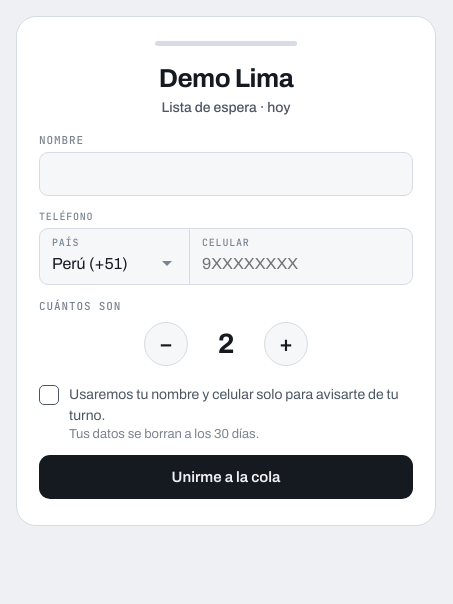
it: JoinPage: errores al enviar › 429 con Retry-After 90s dice "en 2 minutos"
The width and height of the screenshot is (453, 604).
Expected: the heading "Demo Lima" is shown, [159,64,293,92]
Type "Ana Torres" into the field labelled "Nombre". click: (226, 174)
box: [39,152,413,196]
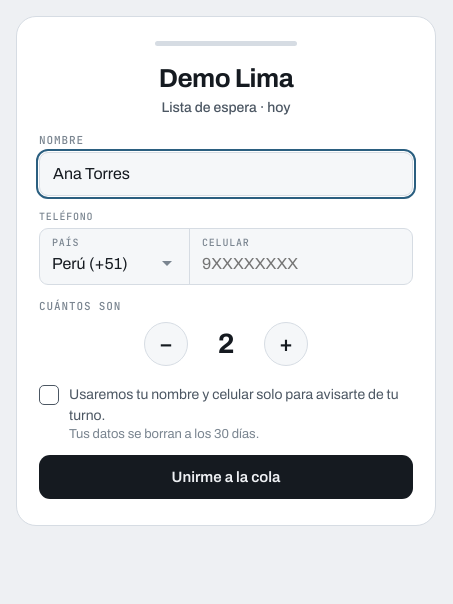
Type "987654321" into the field labelled "Celular". click: (301, 264)
box: [202,251,400,277]
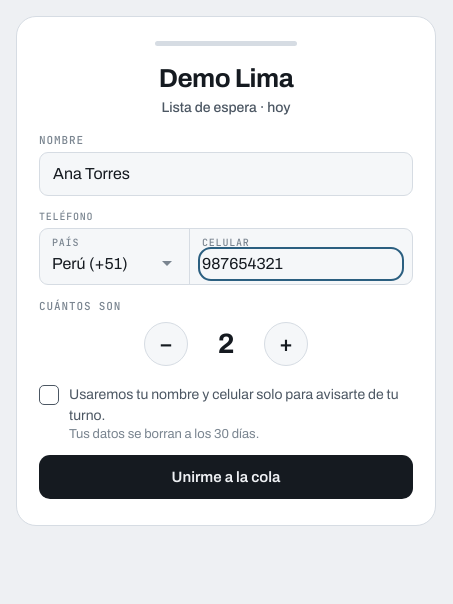
Click the checkbox. click: (49, 395)
box: [39,385,59,405]
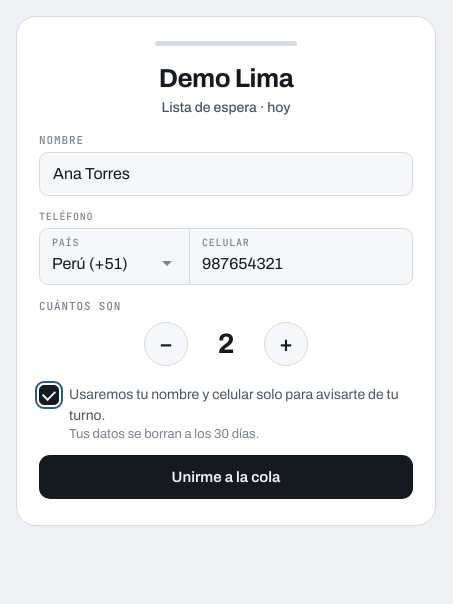
Click the button "Unirme a la cola". click: (226, 477)
box: [39,455,413,499]
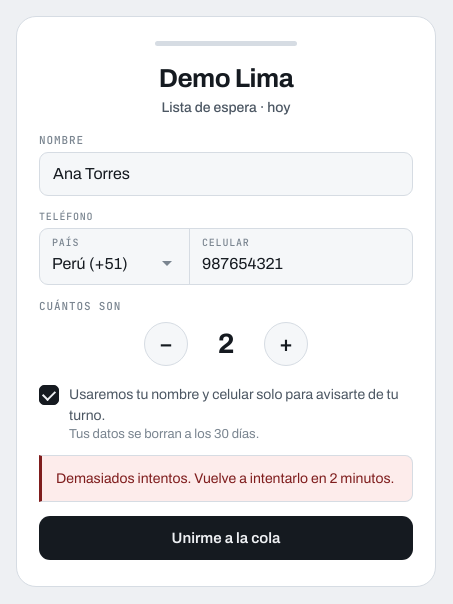
Expected: the text "Demasiados intentos. Vuelve a intentarlo en 2 minutos." is shown, [39,455,413,502]
